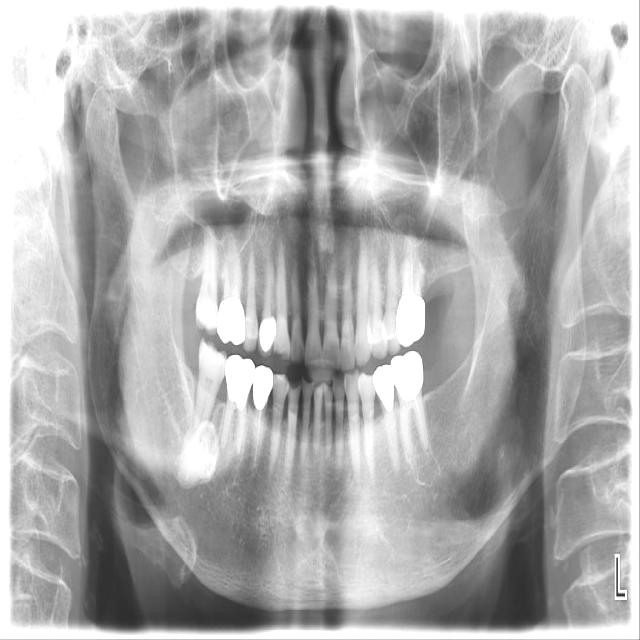Crown: (391, 350, 423, 404), (396, 292, 425, 348), (225, 354, 255, 406), (217, 298, 246, 345), (373, 364, 395, 413), (253, 365, 273, 411), (257, 317, 277, 357)
Periapical lesion: (179, 421, 216, 487), (411, 447, 441, 488)
Root Canal Treatment: (256, 409, 261, 466), (411, 236, 415, 294)
